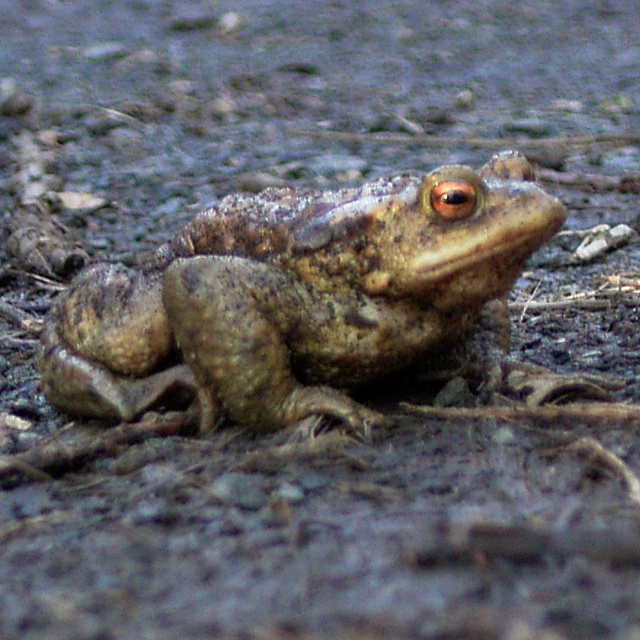Frog: (34, 150, 565, 447)
